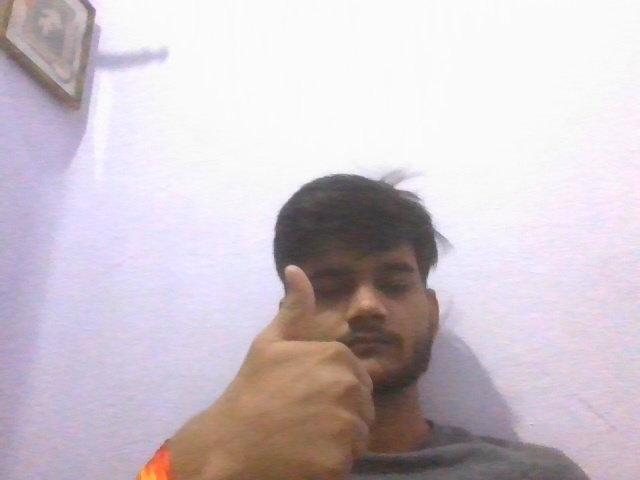thanks: (203, 257, 386, 480)
